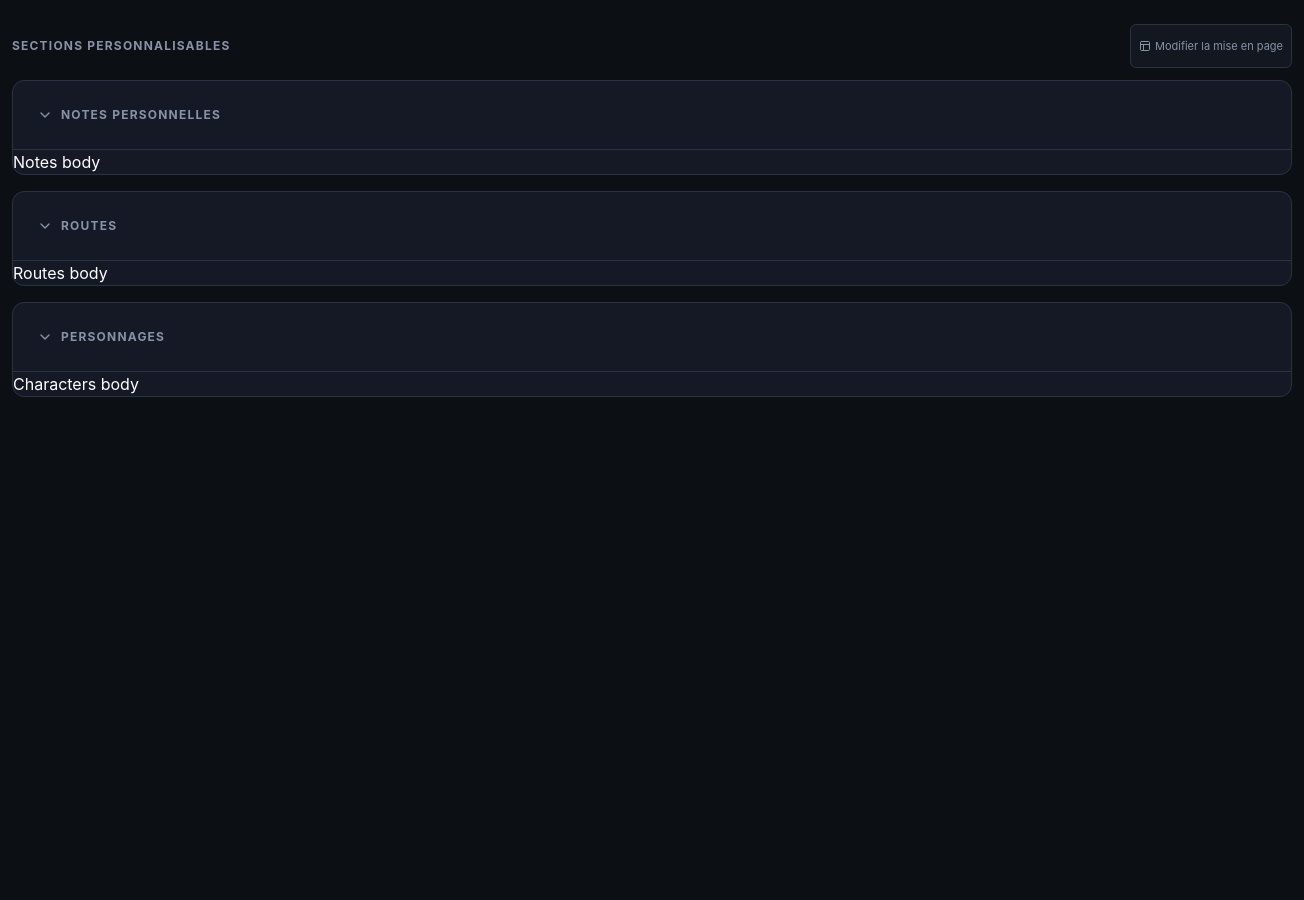
VnDetailLayout › surfaces an error toast when the save PATCH fails
Click the button "Modifier la mise en page": (1211, 46) [1130, 24, 1292, 68]
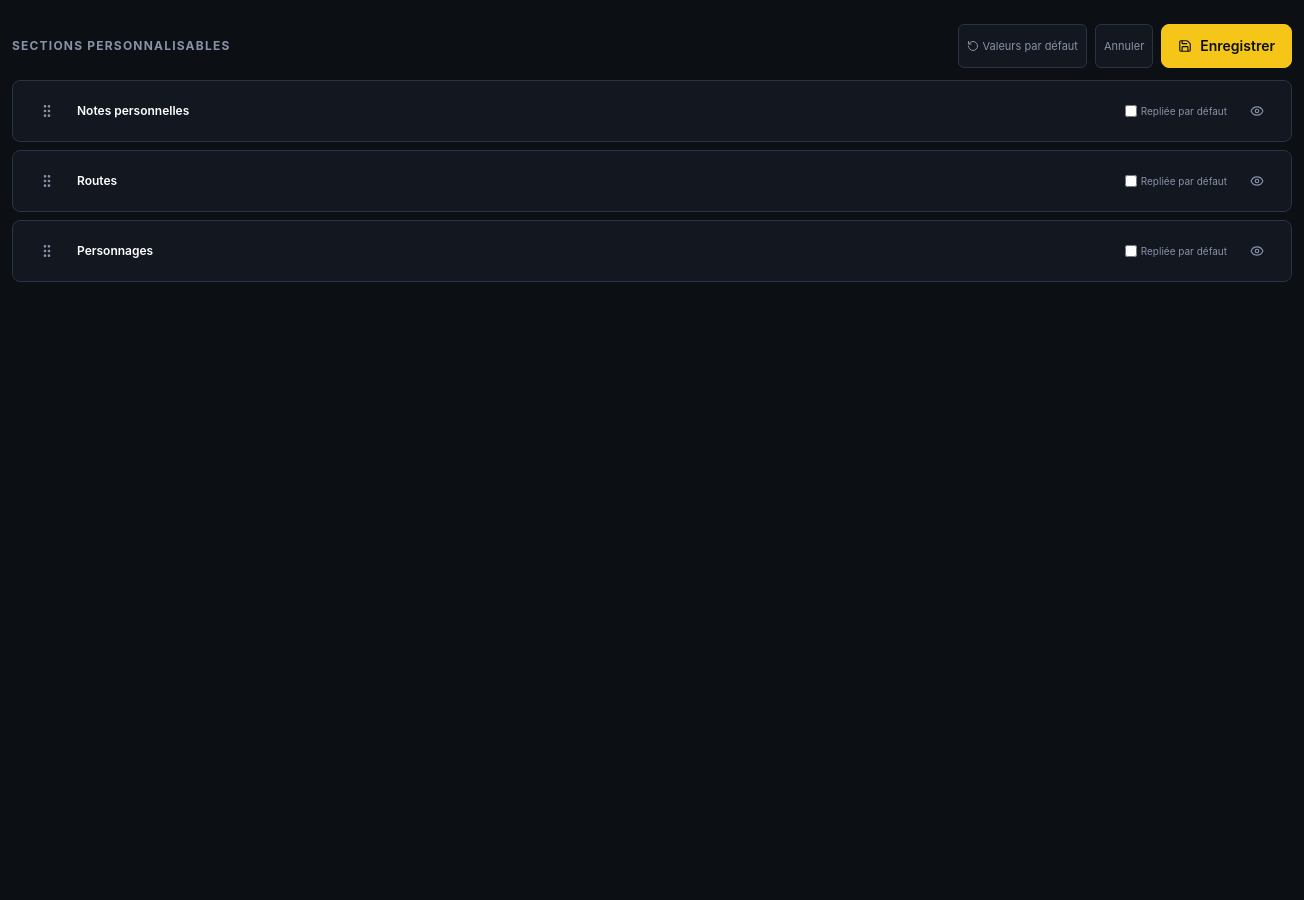
Click the button "Enregistrer": (1227, 46) [1161, 24, 1292, 68]
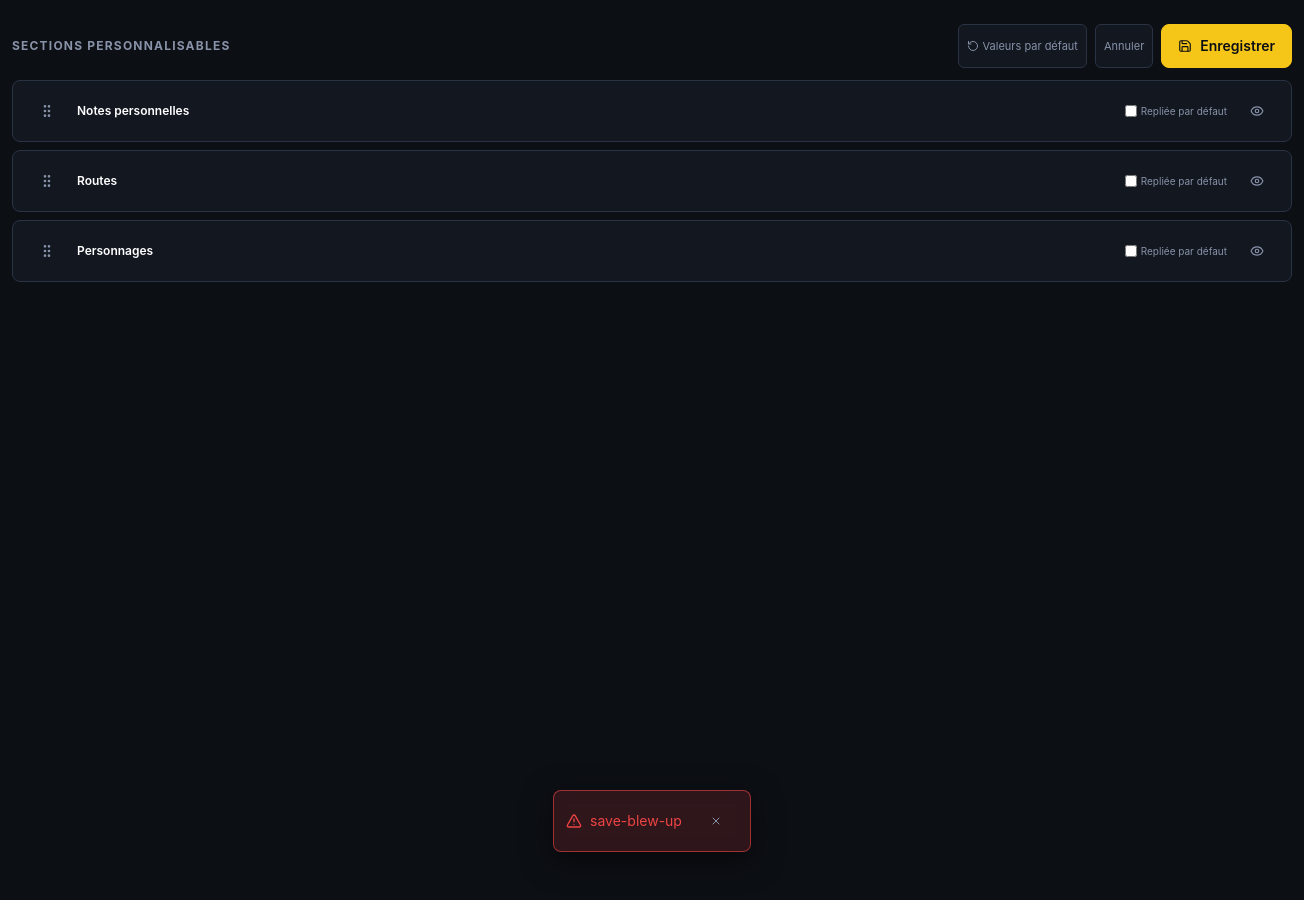
Check: the button "Enregistrer" is shown, box [1161, 24, 1292, 68]
Check: the text "save-blew-up" is shown, box [590, 811, 682, 831]
